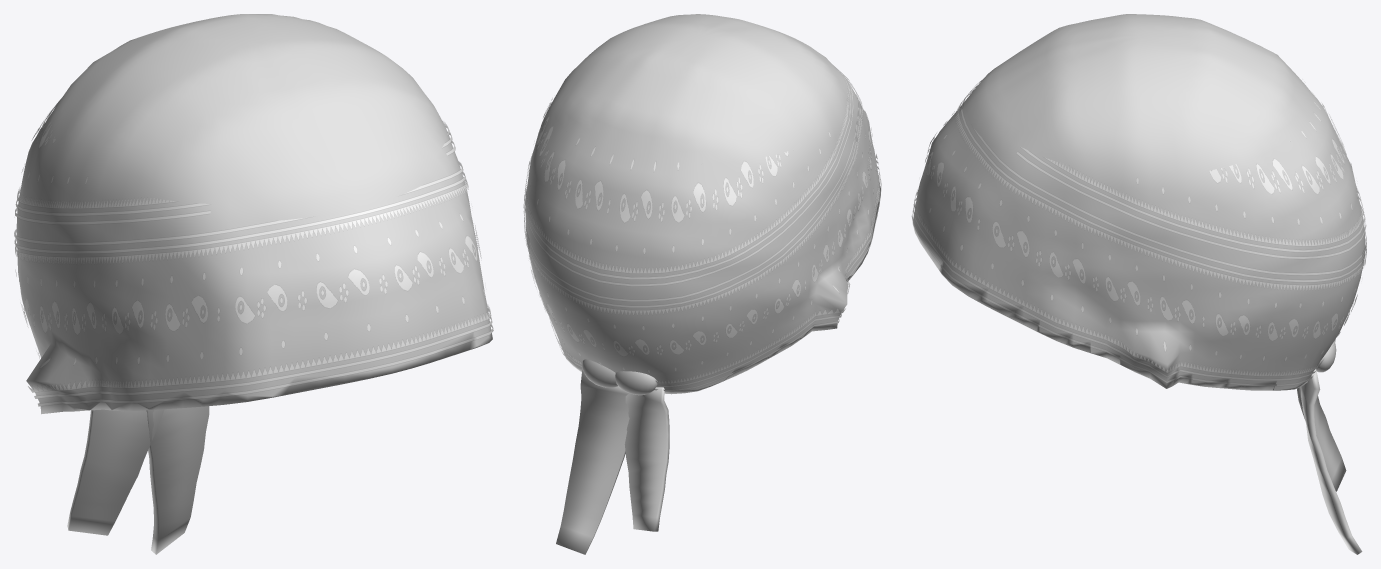
Rendered from acc_bandana_male.glb.
The picture shows the model from 3 angles, left to right: view 1: azimuth 30°, elevation 25°; view 2: azimuth 150°, elevation 25°; view 3: azimuth 270°, elevation 25°; orthographic projection. The views are drawn at different scales.
Visible parts, largest first — view 1: bandana; view 2: bandana; view 3: bandana.
Part boxes in pixels (left/top/right/bottom): bandana: left=14, top=14, right=493, bottom=554; bandana: left=523, top=14, right=881, bottom=554; bandana: left=911, top=14, right=1366, bottom=554.
Bounding box in the file's own units: 0.1881 × 0.258 × 0.2125.
2 materials, 1 textured.
